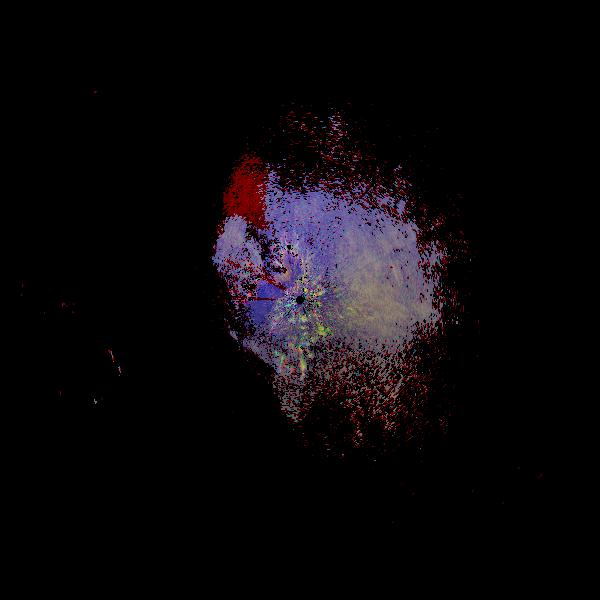roost: (286, 360, 310, 384)
